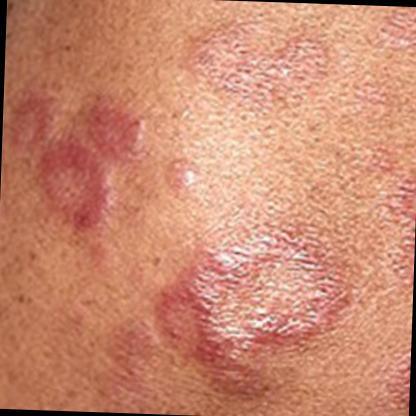Leprosy: (105, 226, 366, 402), (1, 97, 206, 237), (179, 15, 342, 130), (369, 159, 416, 298)
